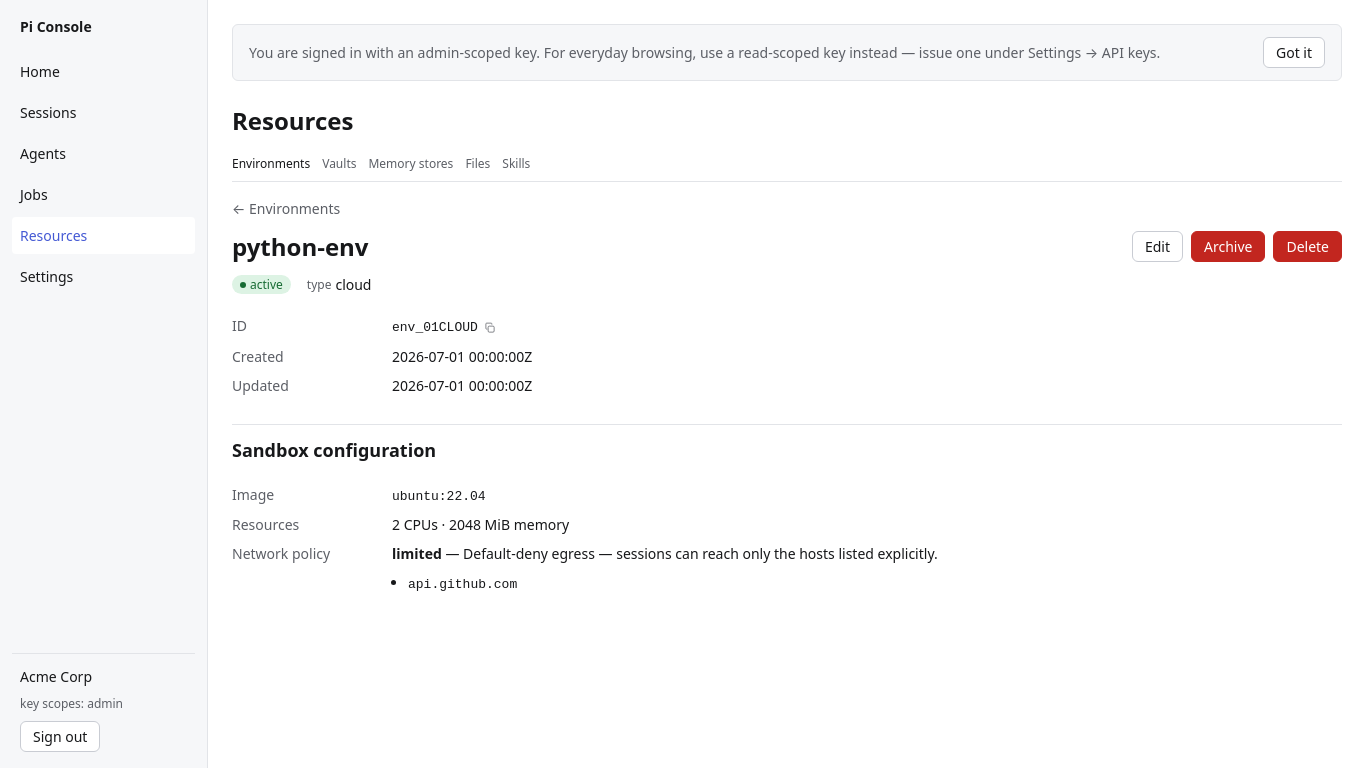
Scenario: environment lifecycle (§9.2, DP-7) › edit PATCHes the environment and says PATCH is not versioned
Expected: the heading "python-env" is shown, [232, 231, 368, 262]
Click the button "Edit": (1157, 247) [1132, 231, 1183, 262]
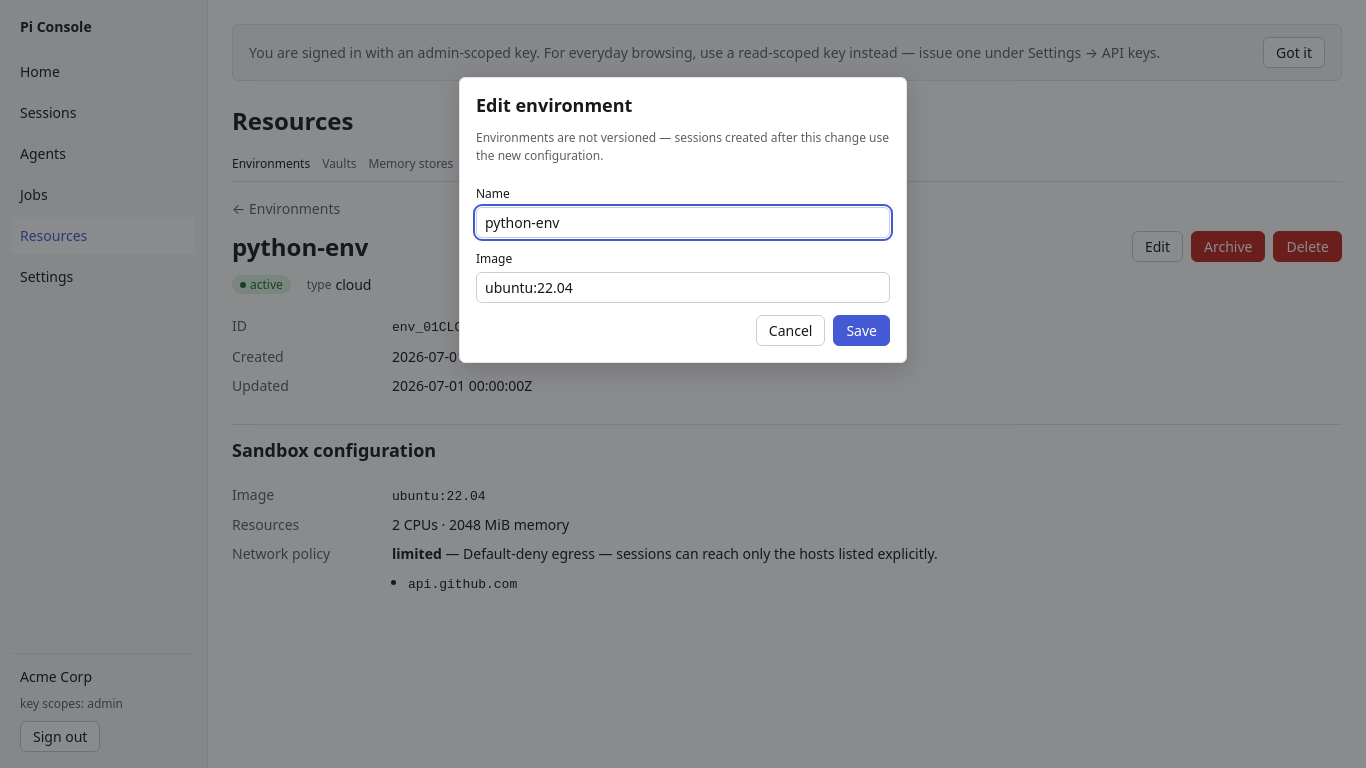
Expected: the text "not versioned — sessions created after" is shown, [476, 129, 889, 164]
Replace the text in the field labelled "Name" with "python-env-v2": (683, 223) [476, 207, 890, 238]
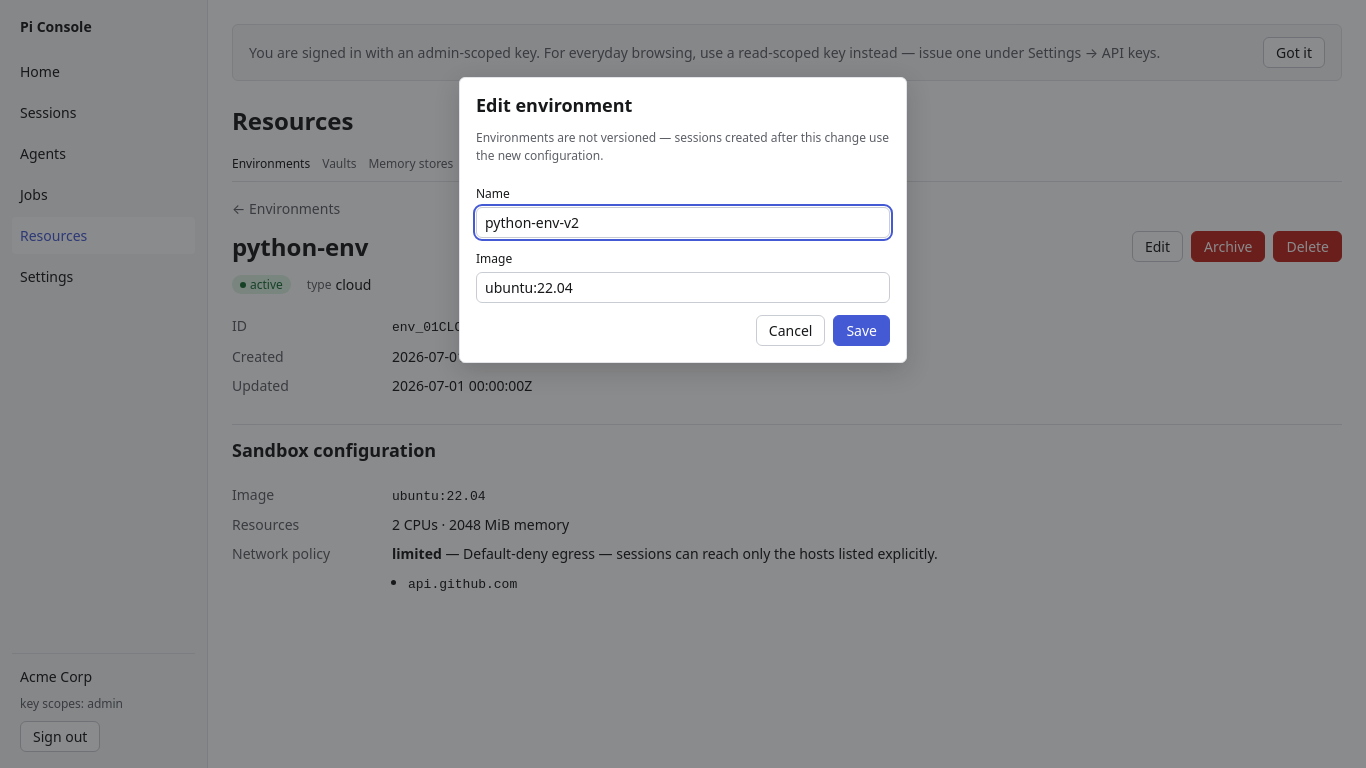
Click the button "Save": (862, 331) [833, 315, 890, 346]
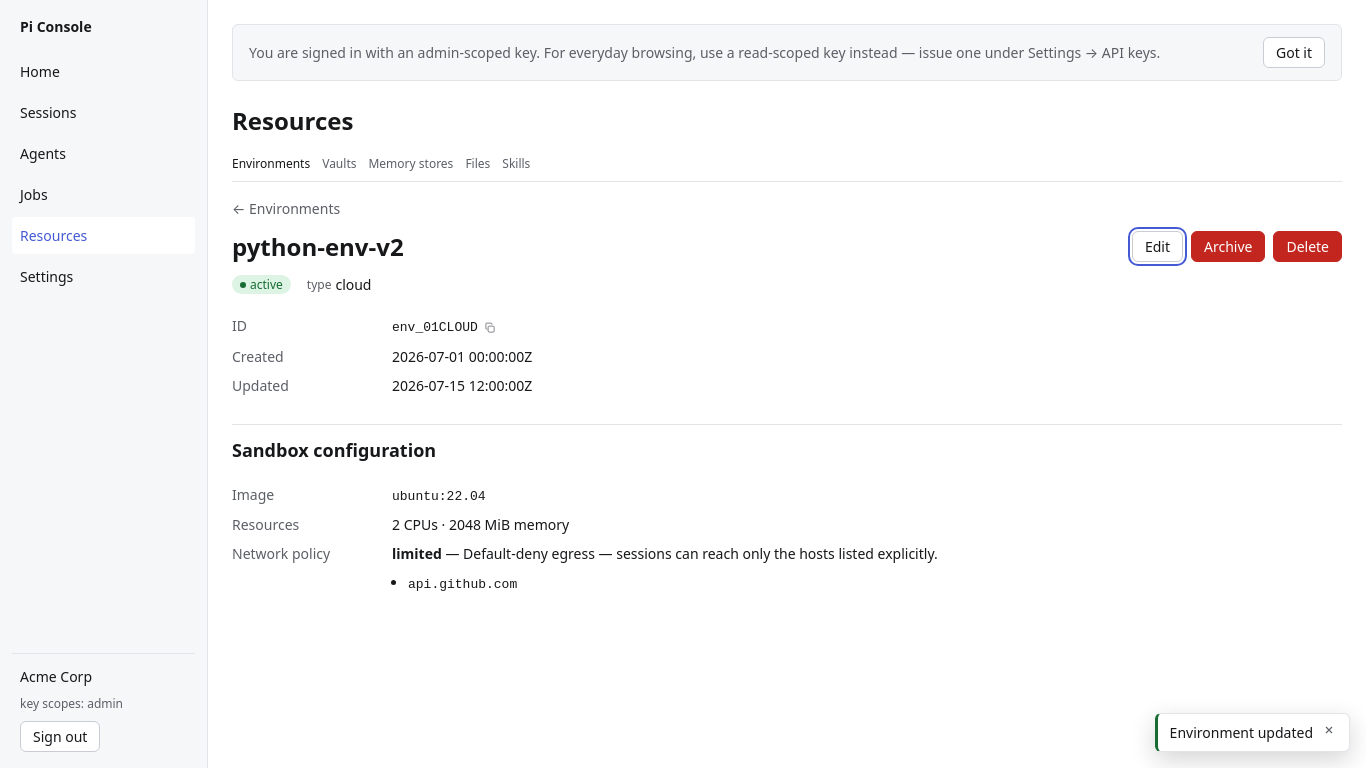
Expected: the heading "python-env-v2" is shown, [232, 231, 404, 262]
